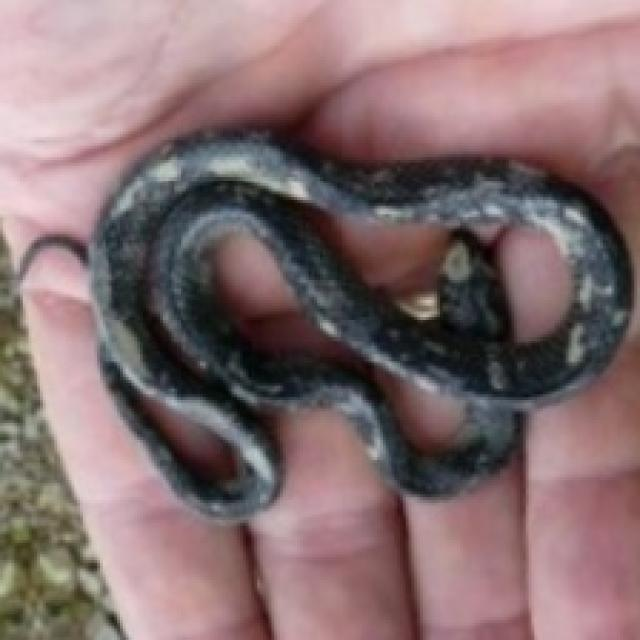gunthers philippine shrub snake: (83, 129, 631, 520)
